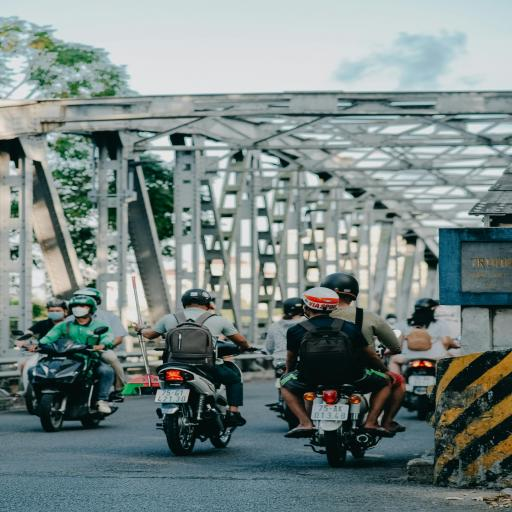place: (313, 400, 349, 420), (159, 388, 190, 402)
